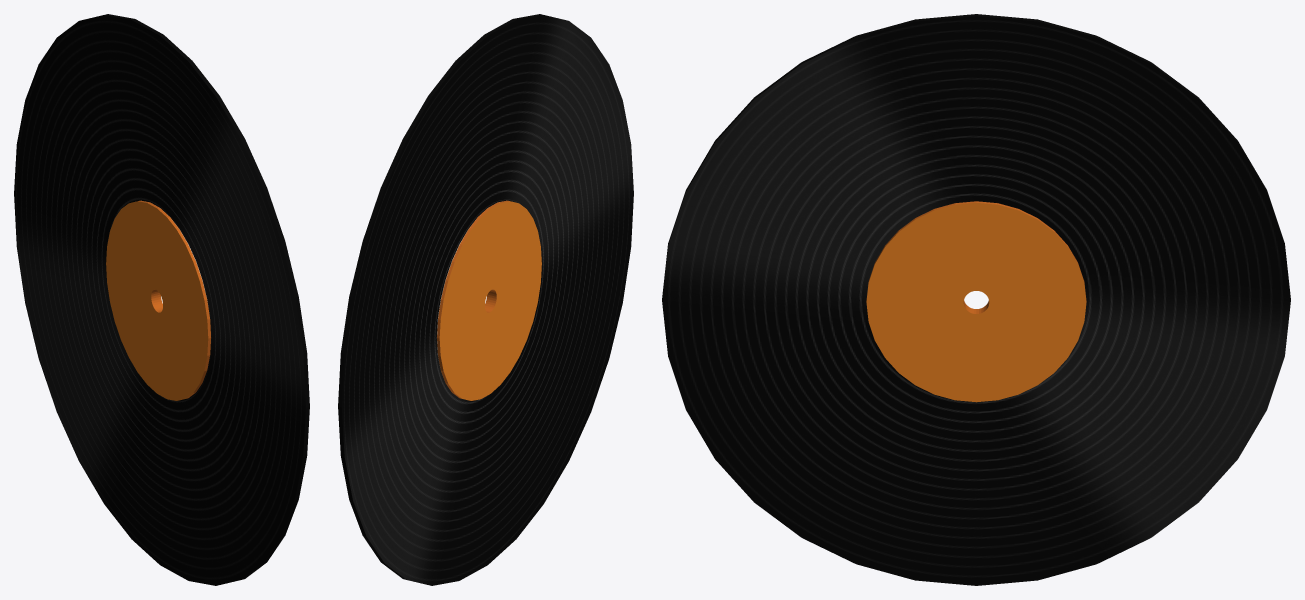
File: vinyl record.fbx
3 views of the same model, side by side, from view 1: azimuth 30°, elevation 25°; view 2: azimuth 150°, elevation 25°; view 3: azimuth 270°, elevation 25° (orthographic). The views are drawn at different scales.
Visible parts, largest first — view 1: Circle; view 2: Circle; view 3: Circle.
Part boxes in pixels (x1,y1,x2,y2): Circle: (14, 14, 309, 585); Circle: (338, 14, 633, 585); Circle: (662, 14, 1290, 585).
Size of the model in its own units: 33.39 by 1760 by 1760.
1 material, 1 textured.
